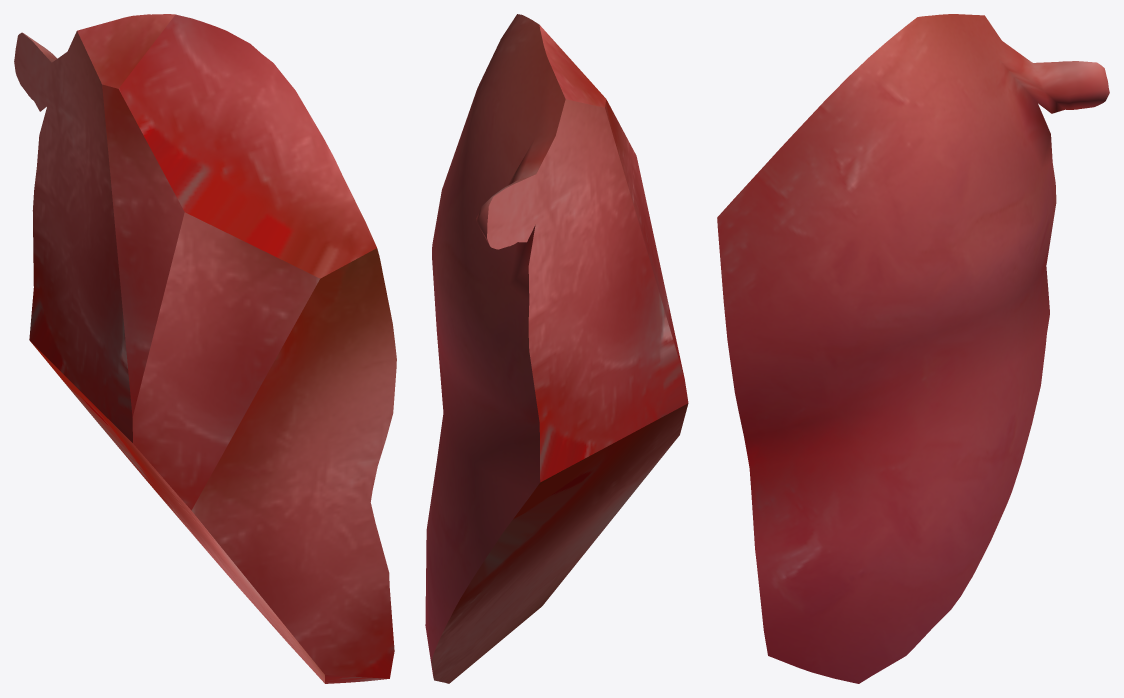
File: SM_HeartPiece_13_.FBX
3 views of the same model, side by side, from view 1: azimuth 30°, elevation 25°; view 2: azimuth 150°, elevation 25°; view 3: azimuth 270°, elevation 25° (orthographic). The views are drawn at different scales.
Visible parts, largest first — view 1: SM_HeartPiece_13_; view 2: SM_HeartPiece_13_; view 3: SM_HeartPiece_13_.
Part boxes in pixels (left/top/right/bottom): SM_HeartPiece_13_: left=14, top=14, right=396, bottom=683; SM_HeartPiece_13_: left=425, top=14, right=688, bottom=683; SM_HeartPiece_13_: left=717, top=14, right=1109, bottom=683.
Bounding box in the file's own units: 140 × 229 × 396.
